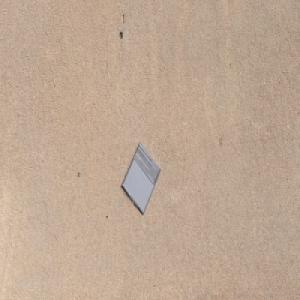PlasticPart: (121, 141, 161, 215)
